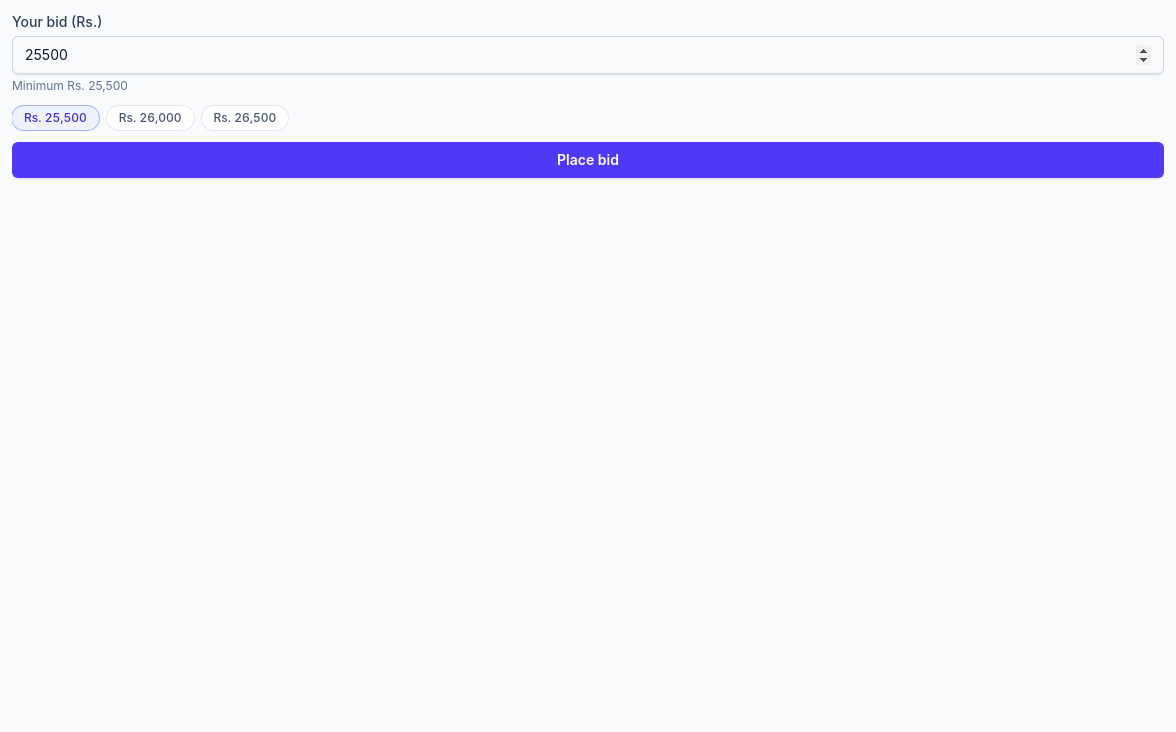
Scenario: <BidForm> › retries a lost request with the same idempotency key
This screenshot has width=1176, height=732.
Click the button "Place bid": (588, 160) [12, 142, 1164, 178]
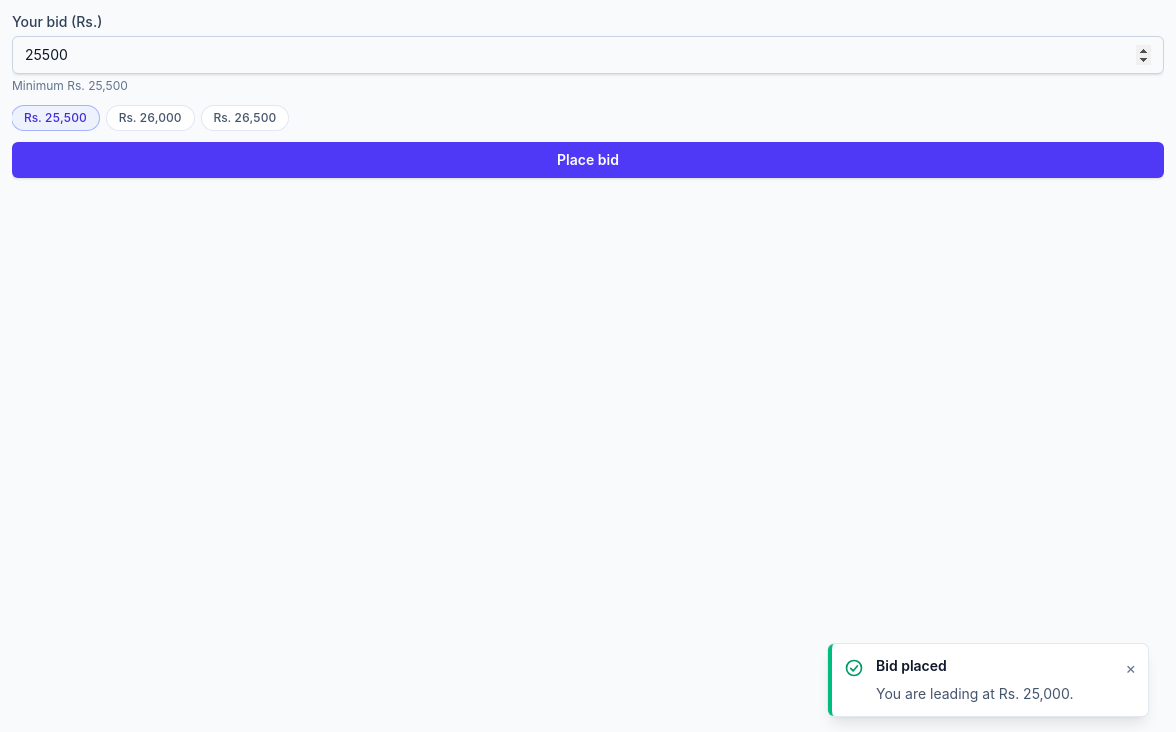
expect the text "Bid placed" is shown: met, box [876, 656, 947, 676]
